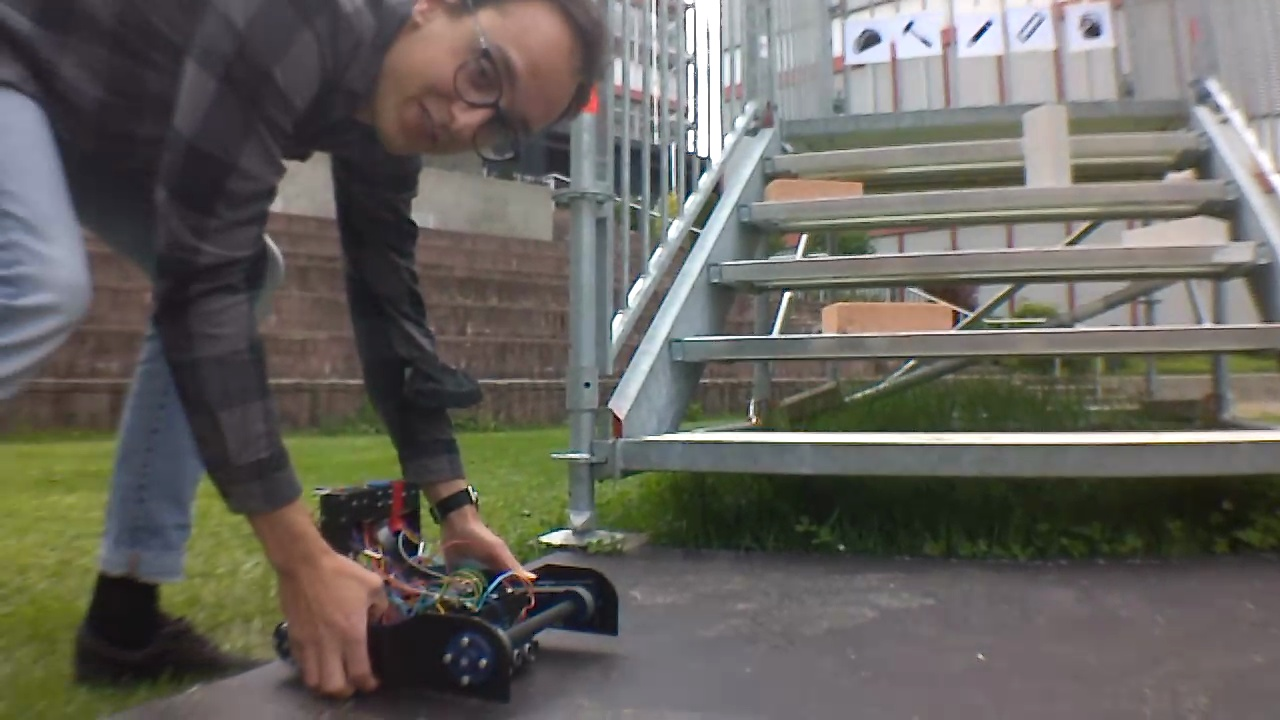brick: (822, 301, 951, 332), (1023, 104, 1068, 186), (1122, 216, 1228, 243), (766, 179, 862, 199)
bucket: (1073, 11, 1108, 42)
edge: (621, 437, 1278, 475), (711, 241, 1275, 281), (740, 180, 1243, 218), (668, 325, 1280, 356), (762, 132, 1216, 164), (783, 100, 1183, 128)
hammer: (897, 18, 934, 54)
pencil: (961, 15, 996, 53)
ruler: (1012, 8, 1047, 45)
stairs: (559, 2, 1280, 551)
steps: (610, 92, 1280, 486)
taco: (850, 25, 884, 56)
